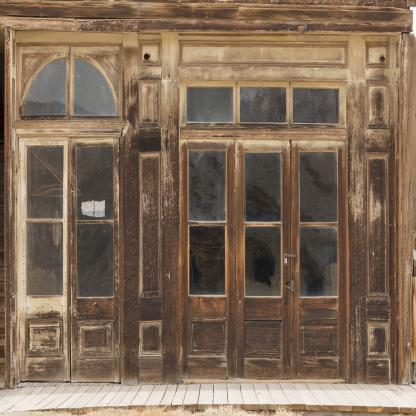Building Outline: (0, 0, 416, 385)
Door: (235, 138, 347, 380), (18, 138, 120, 384)
Facade: (0, 0, 416, 385)
Ground Floor: (0, 0, 416, 385)
Window: (180, 80, 347, 128), (188, 150, 226, 295), (22, 57, 66, 116), (73, 57, 116, 115)
